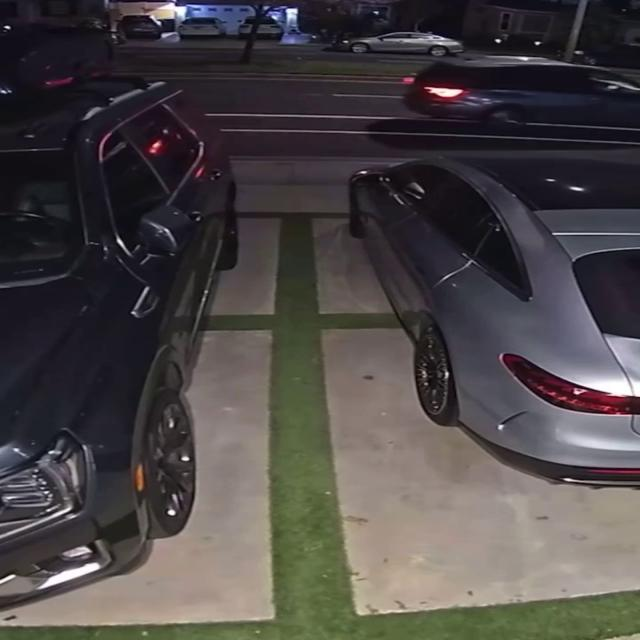Theft - Alert: (404, 56, 639, 128)
